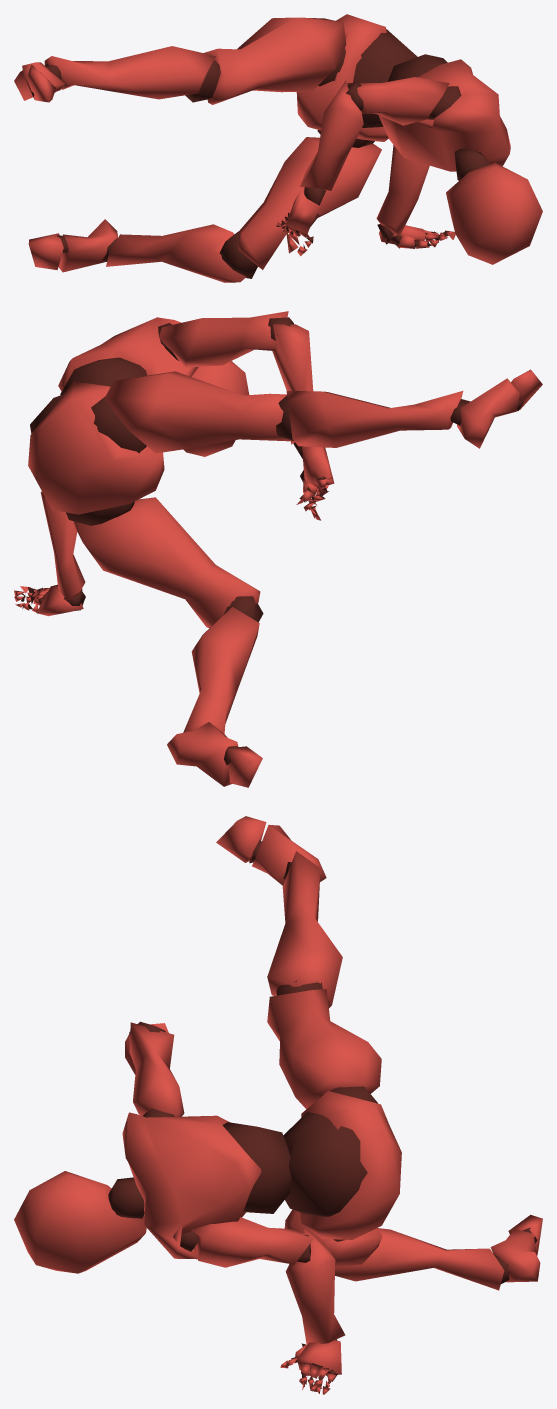
3 views of the same model, one above another, from view 1: azimuth 30°, elevation 25°; view 2: azimuth 150°, elevation 25°; view 3: azimuth 270°, elevation 25° (orthographic). The views are drawn at different scales.
Parts seen in each view (by area): view 1: Beta_Surface; view 2: Beta_Surface; view 3: Beta_Surface.
Boxes of the visible parts, x1,y1,x2,y2 form: Beta_Surface: (14, 14, 542, 282); Beta_Surface: (14, 311, 542, 787); Beta_Surface: (14, 816, 542, 1394).
Bounding box in the file's own units: 13.27 × 9.21 × 11.98.
